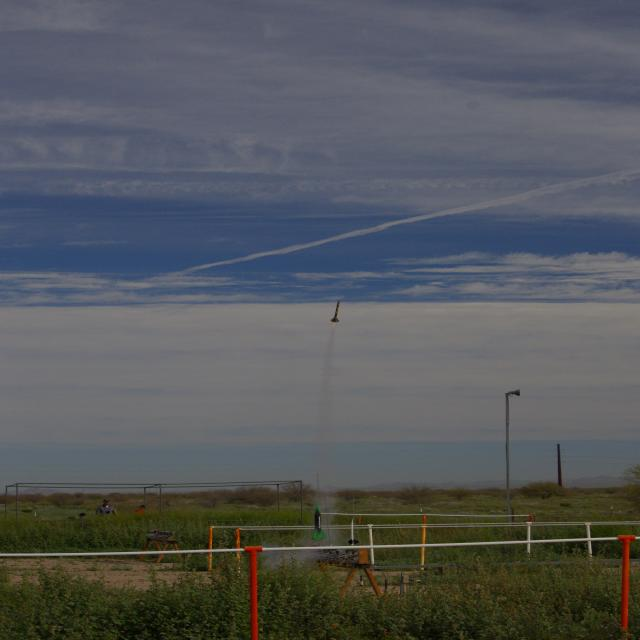Rocket: (310, 502, 328, 541), (348, 519, 359, 546), (330, 300, 340, 322)
